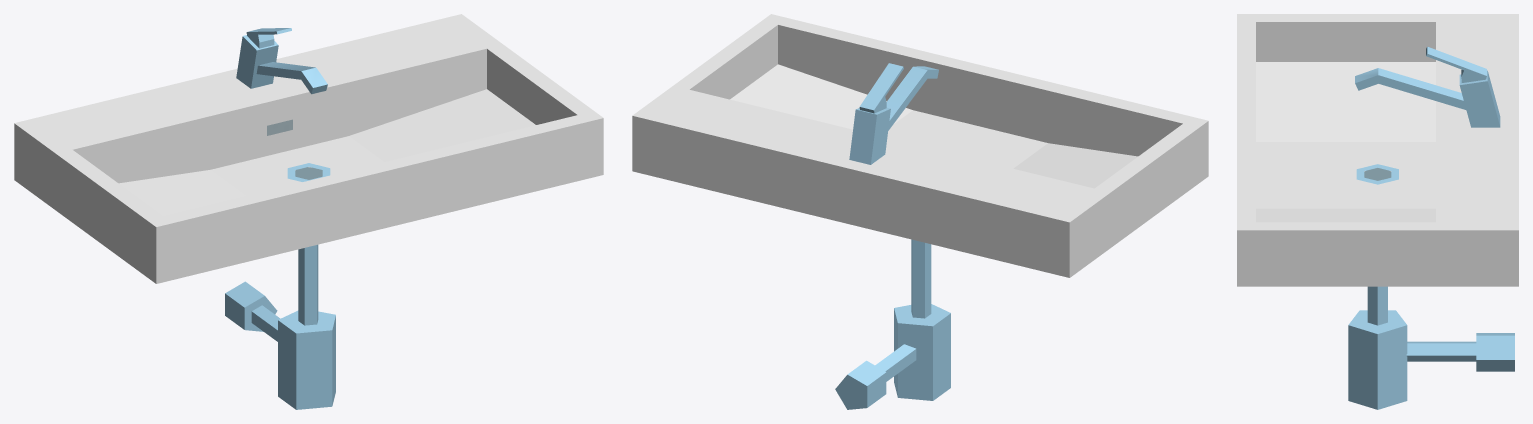
Rendered from bathroom_item_021.glb.
3 views of the same model, side by side, from view 1: azimuth 30°, elevation 25°; view 2: azimuth 150°, elevation 25°; view 3: azimuth 270°, elevation 25° (orthographic). The views are drawn at different scales.
Visible parts, largest first — view 1: bathroom_item_021; view 2: bathroom_item_021; view 3: bathroom_item_021.
Boxes of the visible parts, x1,y1,x2,y2 form: bathroom_item_021: (14,14,603,409); bathroom_item_021: (632,14,1208,409); bathroom_item_021: (1237,14,1518,409).
Size of the model in its own units: 0.5507 by 0.4115 by 0.303.
1 material, 1 textured.
